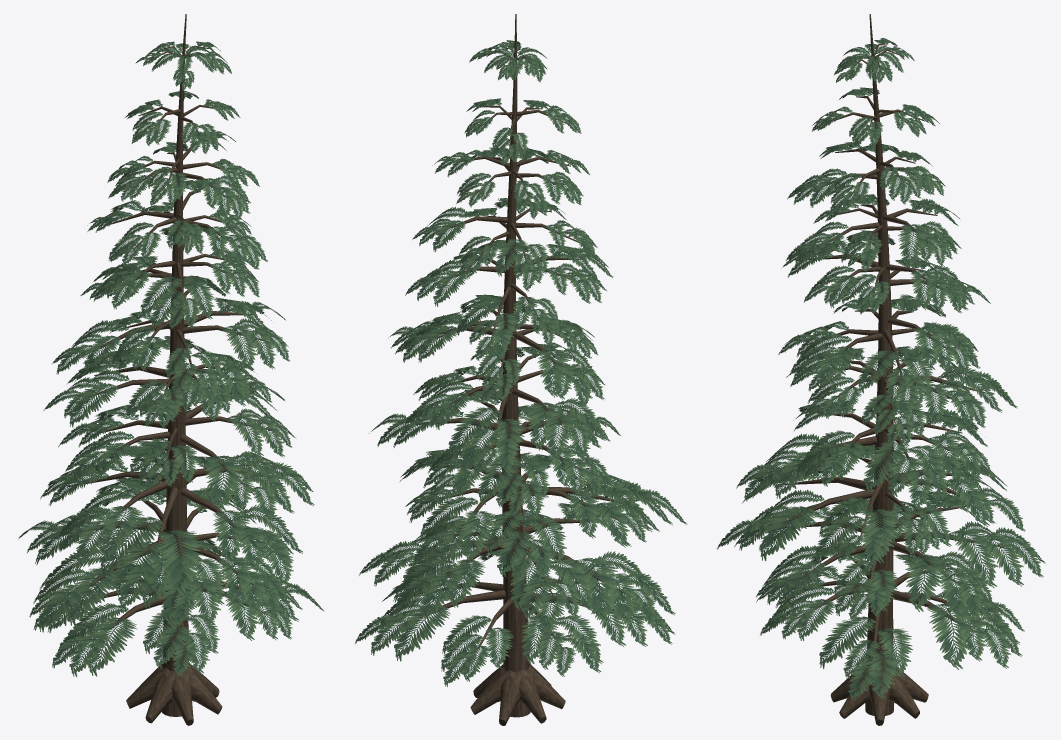
The model's file is alpine_pine_tall.glb.
3 renders of one model, left to right at view 1: azimuth 30°, elevation 25°; view 2: azimuth 150°, elevation 25°; view 3: azimuth 270°, elevation 25°, orthographic.
Visible parts, largest first — view 1: alpine_pine_tall; view 2: alpine_pine_tall; view 3: alpine_pine_tall.
Boxes of the visible parts, <box> form: alpine_pine_tall: <box>18,14,324,725</box>; alpine_pine_tall: <box>355,14,686,725</box>; alpine_pine_tall: <box>716,14,1045,725</box>.
Bounding box in the file's own units: 4.8 × 11.2 × 4.8.
2 materials, 2 textured.
